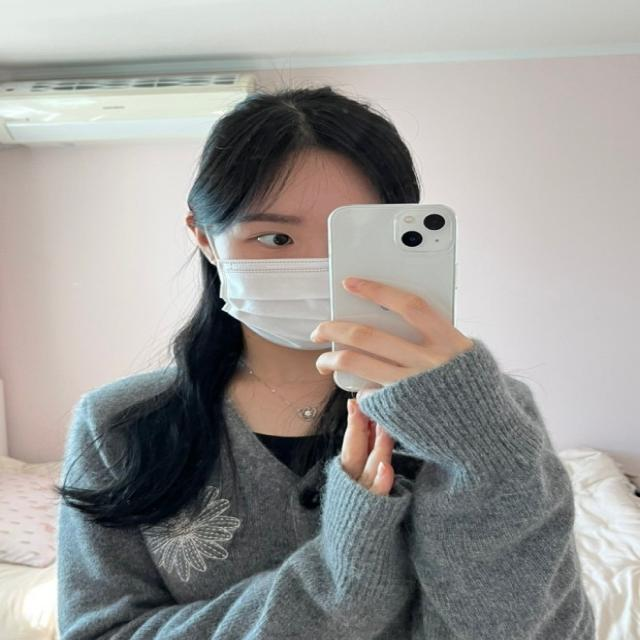phone: (328, 204, 458, 394)
